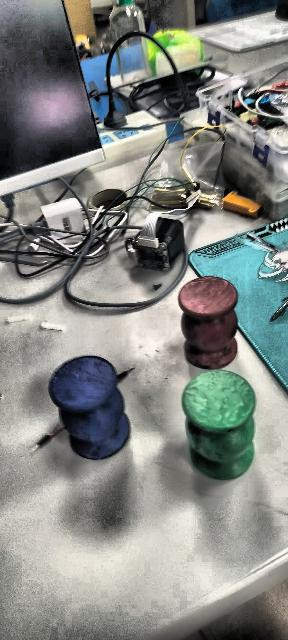blue: (48, 354, 132, 460)
green: (182, 368, 256, 479)
red: (178, 278, 243, 372)
